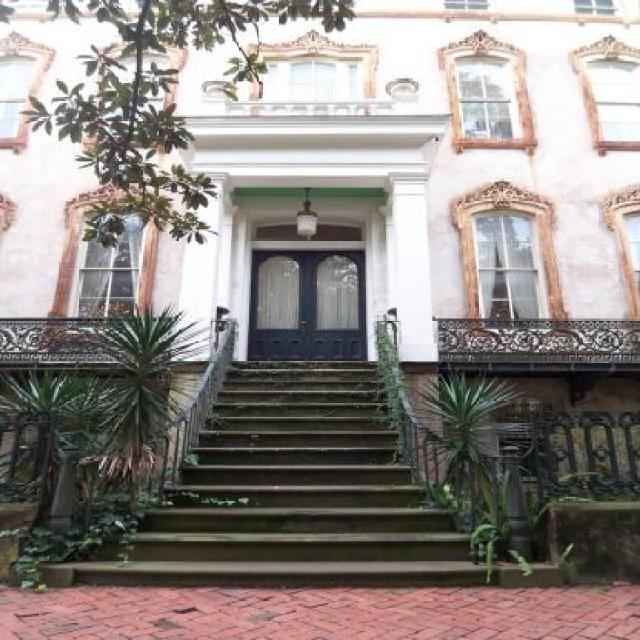stair: (9, 357, 504, 588)
